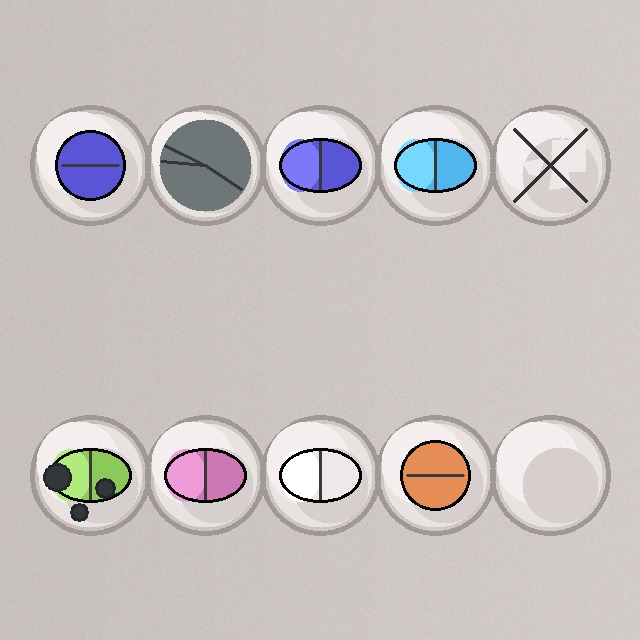broken: (488, 103, 612, 227)
empty: (143, 103, 267, 227)
missing: (488, 413, 612, 537)
stain: (28, 413, 152, 537)
